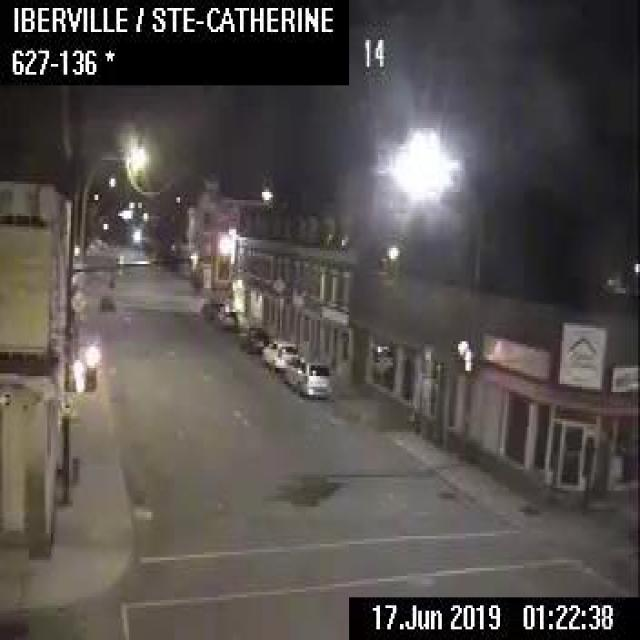vehicle: (283, 354, 332, 396), (259, 338, 298, 370), (238, 325, 268, 351), (201, 296, 227, 320), (219, 309, 244, 332), (99, 294, 114, 310)
